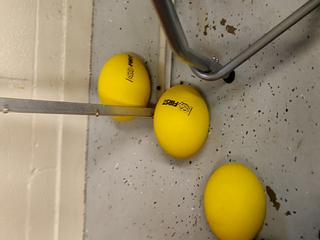power_cell: (199, 160, 270, 240), (98, 53, 157, 124), (150, 85, 209, 156)
